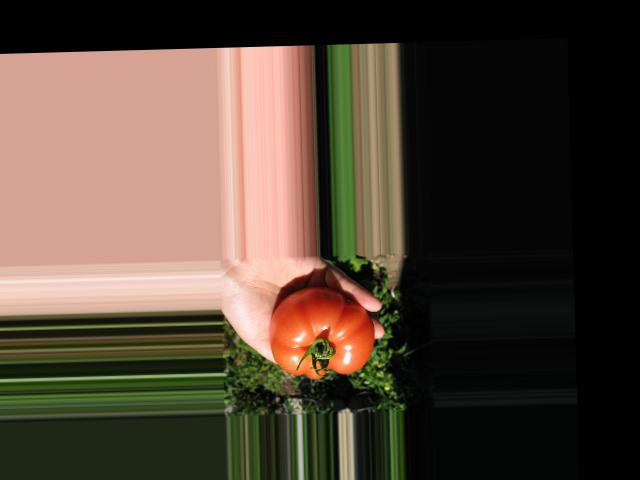tomato: (269, 286, 376, 380)
